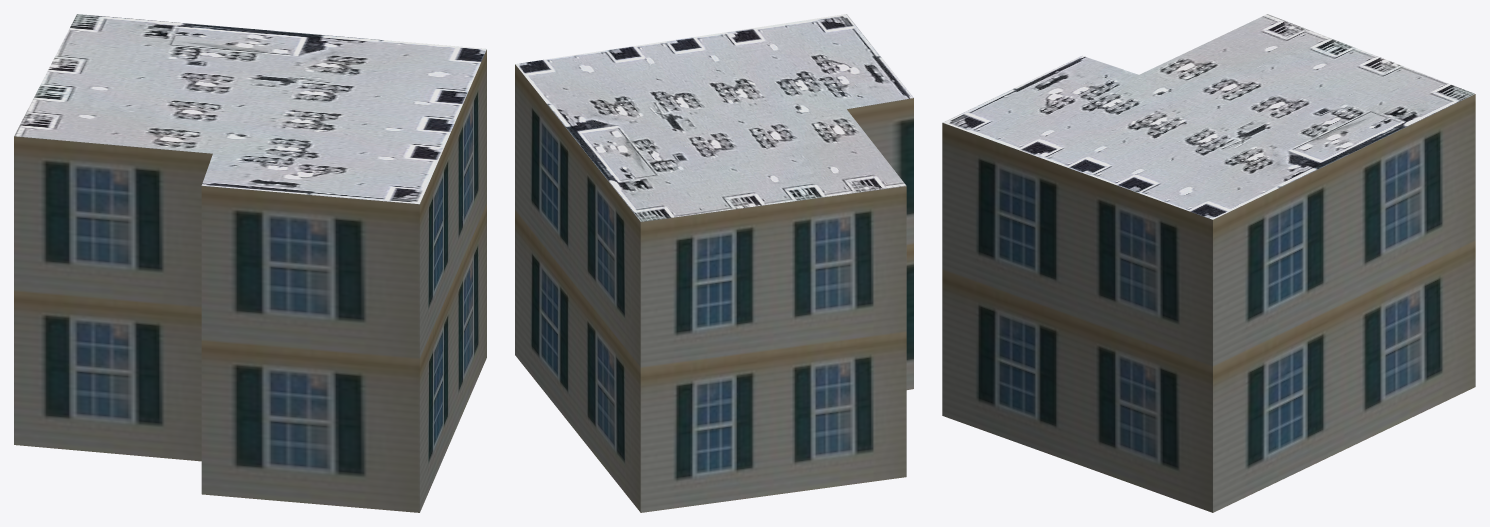
The model's file is ResTex__293.fbx.
The picture shows the model from 3 angles, left to right: view 1: azimuth 30°, elevation 25°; view 2: azimuth 150°, elevation 25°; view 3: azimuth 270°, elevation 25°; orthographic projection. The views are drawn at different scales.
Parts seen in each view (by area): view 1: CityEngineMaterial_7_m, CityEngineMaterial_15_m; view 2: CityEngineMaterial_7_m, CityEngineMaterial_15_m; view 3: CityEngineMaterial_7_m, CityEngineMaterial_15_m.
Boxes of the visible parts, x1=… form: CityEngineMaterial_7_m: x1=14, y1=49, x2=486, y2=512; CityEngineMaterial_15_m: x1=14, y1=14, x2=486, y2=204; CityEngineMaterial_7_m: x1=515, y1=64, x2=913, y2=512; CityEngineMaterial_15_m: x1=515, y1=14, x2=913, y2=221; CityEngineMaterial_7_m: x1=942, y1=94, x2=1475, y2=512; CityEngineMaterial_15_m: x1=943, y1=14, x2=1474, y2=219.
Bounding box in the file's own units: 9.04 × 6 × 9.89.
Materials: 2 (2 with a texture image).
